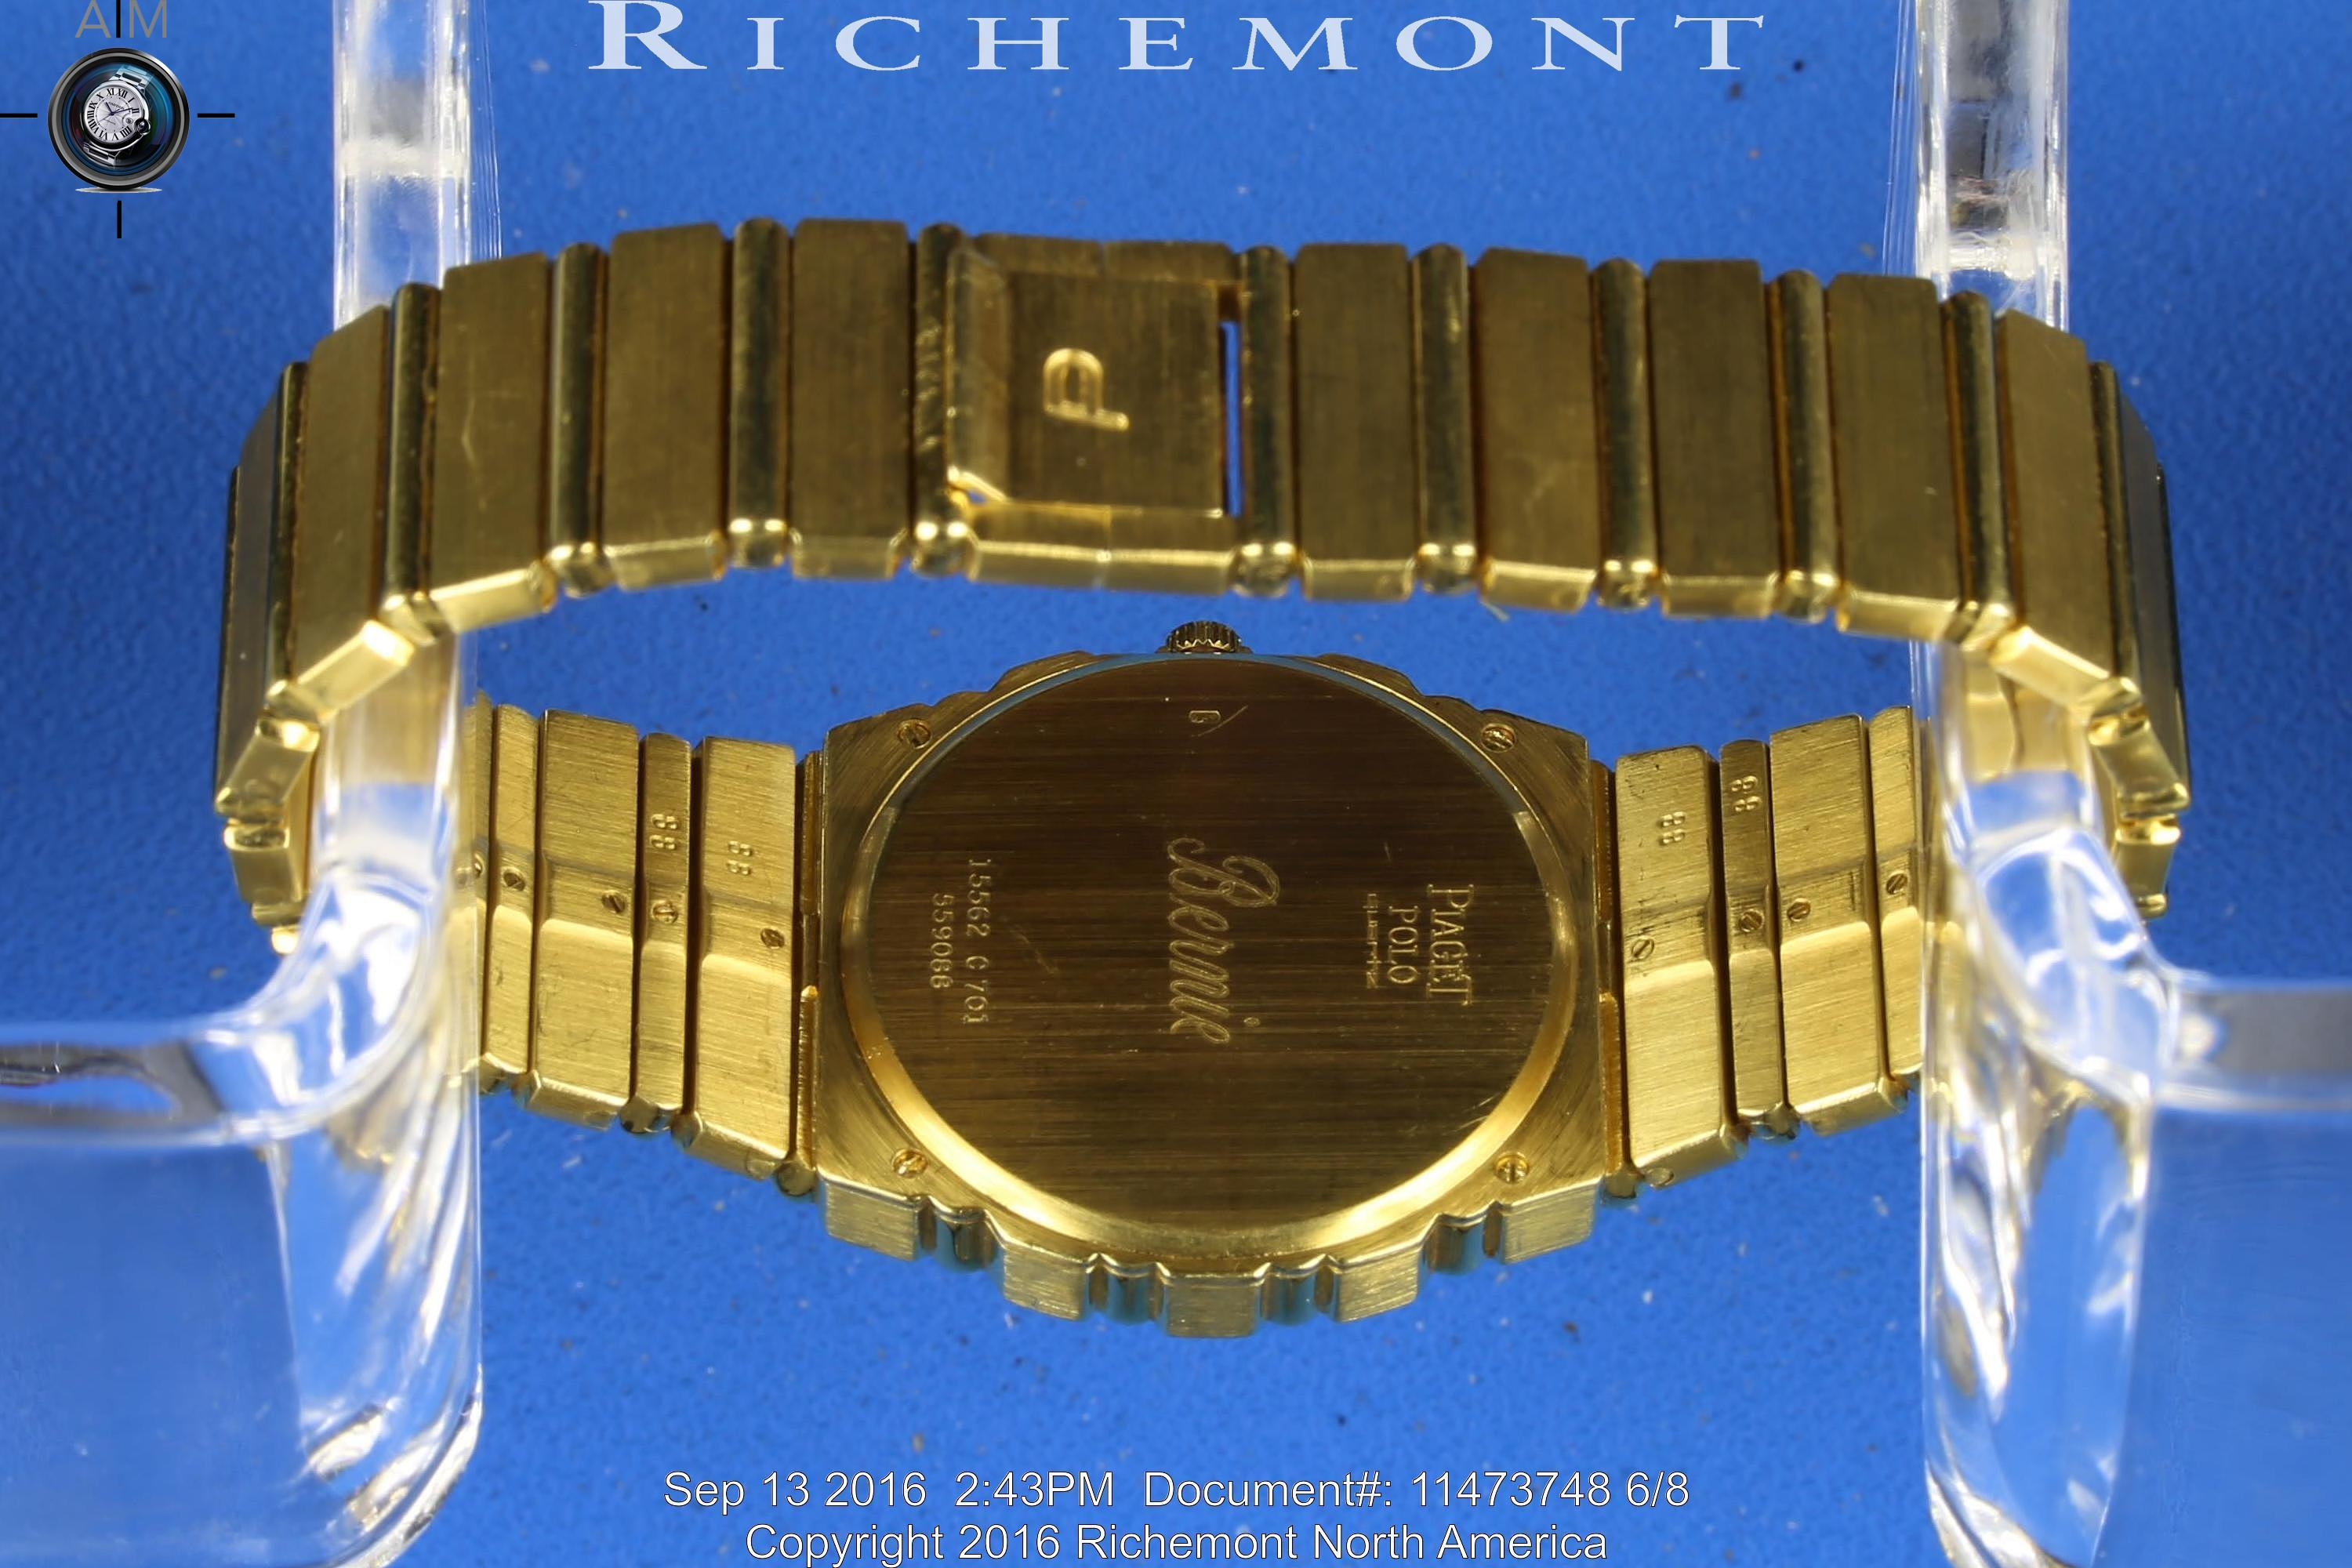Watch BackCase: (795, 598, 1628, 1347)
